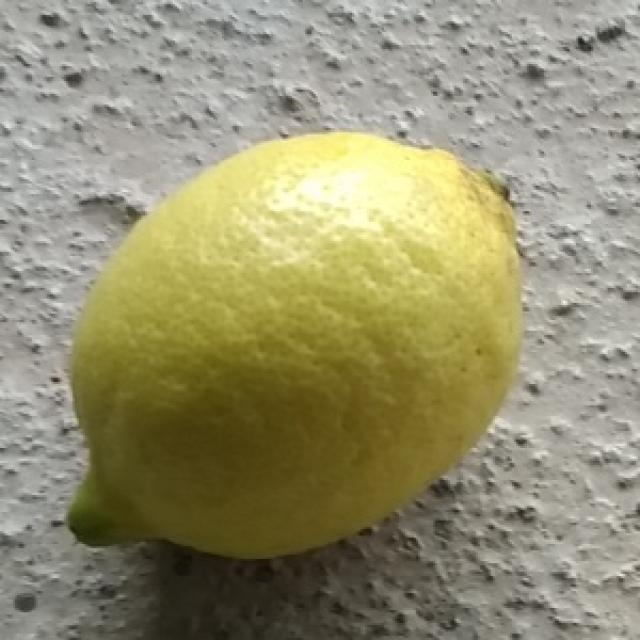Lemon: (66, 134, 528, 564)
